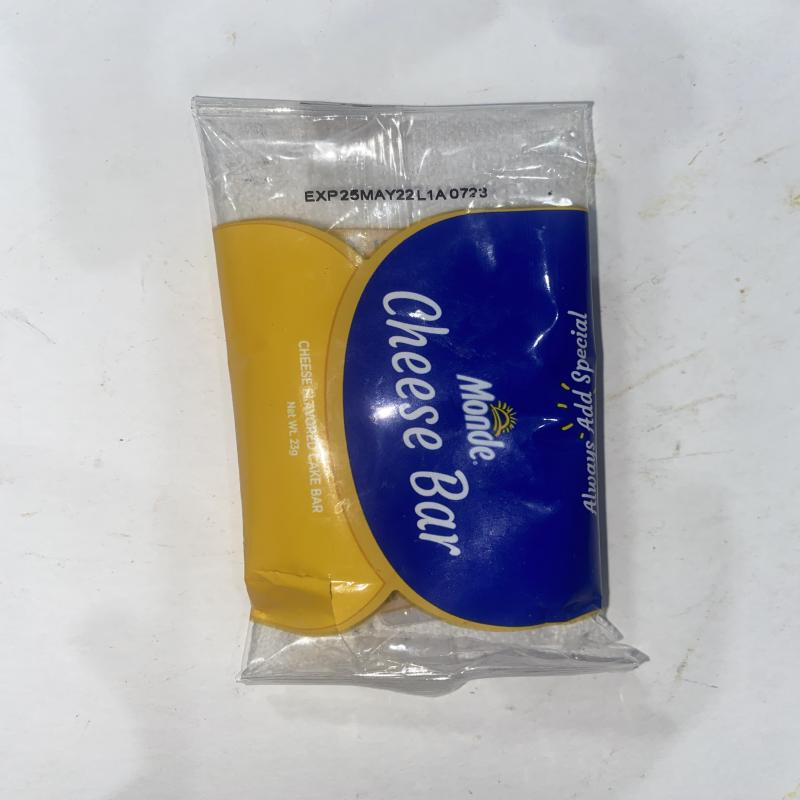food wrapper: (190, 95, 648, 692)
